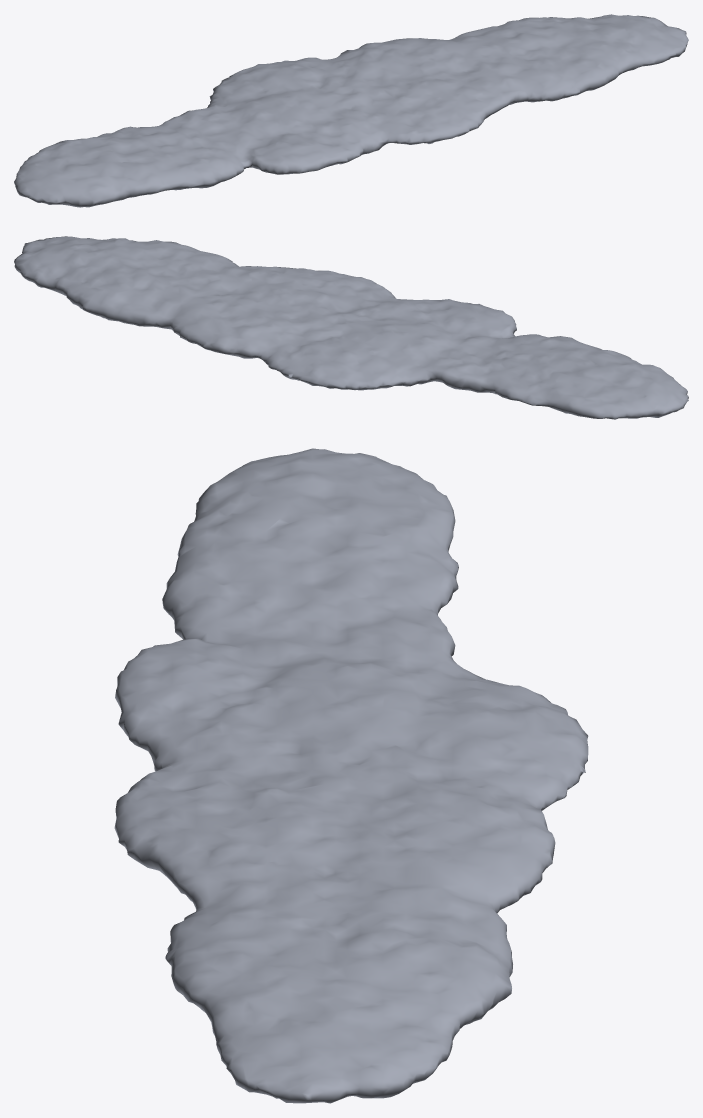
The model's file is stratus_bank.obj.
3 views of the same model, one above another, from view 1: azimuth 30°, elevation 25°; view 2: azimuth 150°, elevation 25°; view 3: azimuth 270°, elevation 25° (orthographic). The views are drawn at different scales.
Parts seen in each view (by area): view 1: stratus_bank; view 2: stratus_bank; view 3: stratus_bank.
Boxes of the visible parts, x1,y1,x2,y2 form: stratus_bank: (14,14,688,207); stratus_bank: (14,236,688,419); stratus_bank: (114,448,588,1103).
Bounding box in the file's own units: 3000 × 132 × 932.
1 material, 1 textured.
